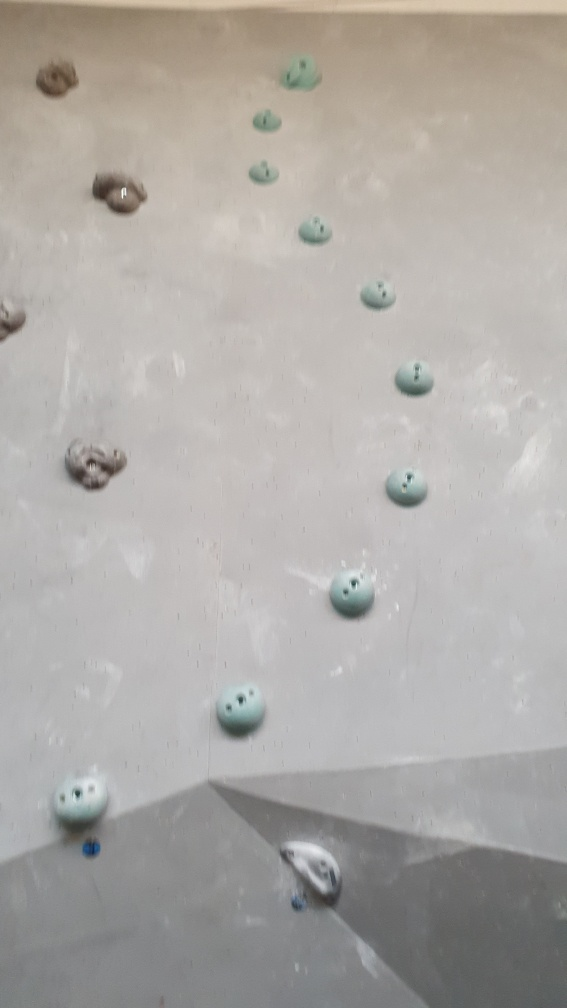Hand Start: (80, 839, 105, 857)
Jug: (55, 432, 134, 496), (86, 165, 153, 219)
Sloper: (51, 767, 112, 829), (214, 675, 271, 739), (323, 564, 380, 626), (382, 462, 432, 513), (392, 352, 433, 405), (356, 273, 404, 313), (293, 214, 339, 246), (247, 151, 281, 189), (250, 106, 285, 137)
